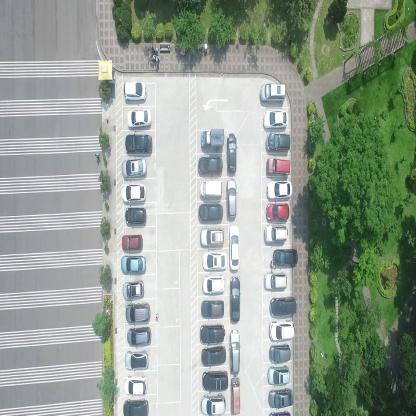car: (125, 132, 153, 156), (201, 368, 229, 391), (270, 296, 298, 318), (201, 126, 225, 150), (260, 81, 285, 104), (265, 131, 291, 153), (200, 345, 226, 367), (200, 393, 226, 415), (121, 157, 147, 179), (124, 349, 150, 371), (267, 388, 294, 409), (229, 327, 240, 378), (261, 109, 289, 129), (122, 80, 147, 102), (265, 156, 291, 177), (121, 183, 147, 204), (125, 303, 151, 324), (265, 180, 292, 200), (267, 364, 291, 386), (229, 224, 240, 272), (230, 274, 241, 322), (121, 280, 145, 302), (124, 374, 148, 396), (198, 202, 223, 223), (269, 320, 295, 340), (201, 251, 227, 271), (199, 323, 225, 343), (269, 342, 292, 364), (198, 154, 223, 174), (121, 254, 146, 274), (272, 248, 298, 267), (126, 327, 152, 346), (122, 398, 149, 416), (226, 131, 237, 175), (226, 178, 237, 222), (201, 298, 224, 319), (200, 227, 224, 247), (201, 275, 226, 294), (127, 109, 152, 128), (230, 377, 242, 415), (199, 179, 223, 198), (264, 224, 289, 242), (263, 271, 288, 289), (266, 203, 290, 221), (120, 232, 144, 250), (124, 207, 146, 226)
